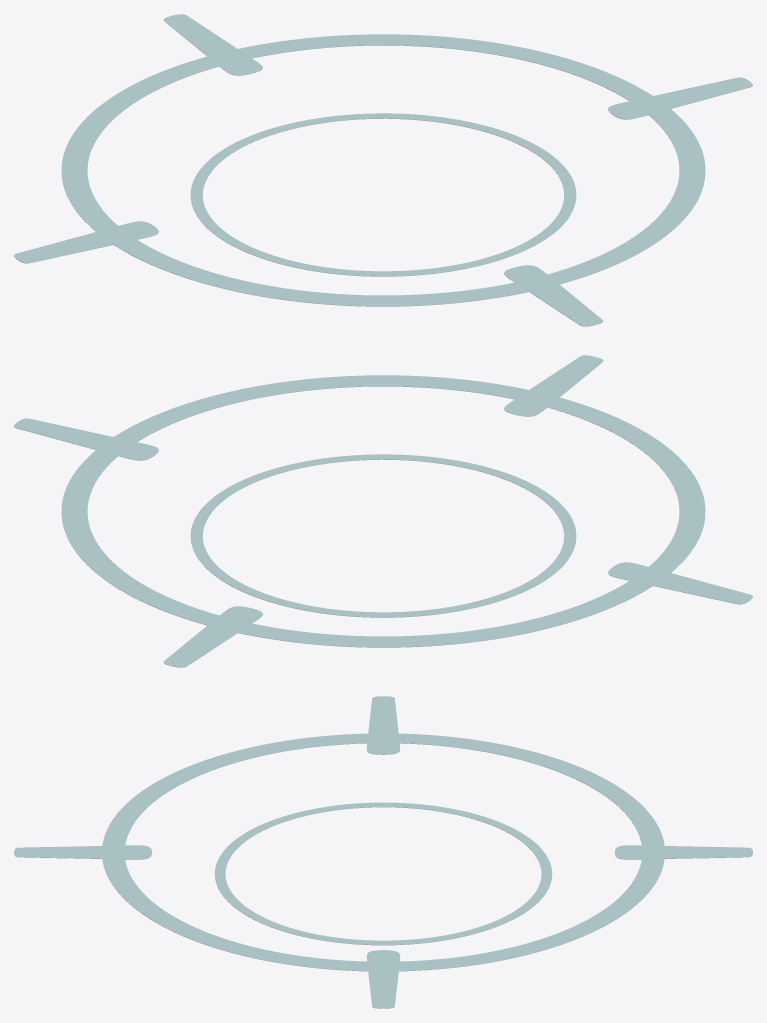
The model's file is Shiroko.fbx.
The picture shows the model from 3 angles, top to bottom: view 1: azimuth 30°, elevation 25°; view 2: azimuth 150°, elevation 25°; view 3: azimuth 270°, elevation 25°; orthographic projection. The views are drawn at different scales.
Parts seen in each view (by area): view 1: Plane; view 2: Plane; view 3: Plane.
Part boxes in pixels (x1,y1,x2,y2): Plane: (14, 14, 752, 326); Plane: (14, 355, 752, 667); Plane: (14, 696, 752, 1008).
Size of the model in its own units: 46.98 by 1.52 by 46.98.
